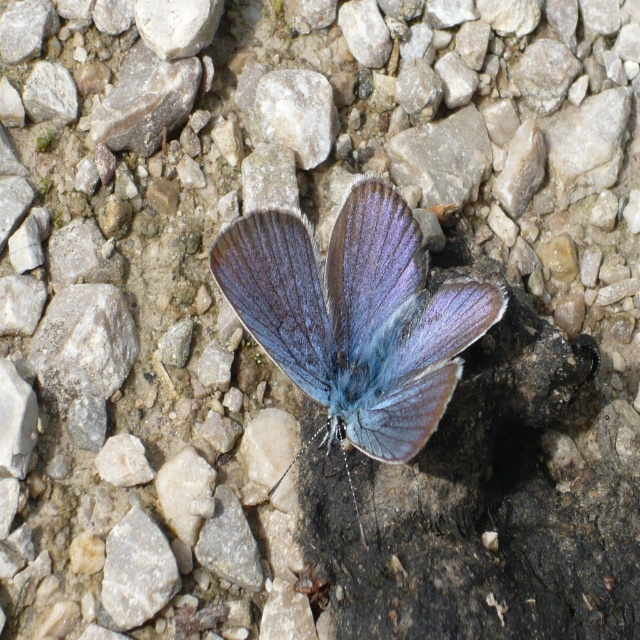Butterfly: (212, 161, 498, 505)
